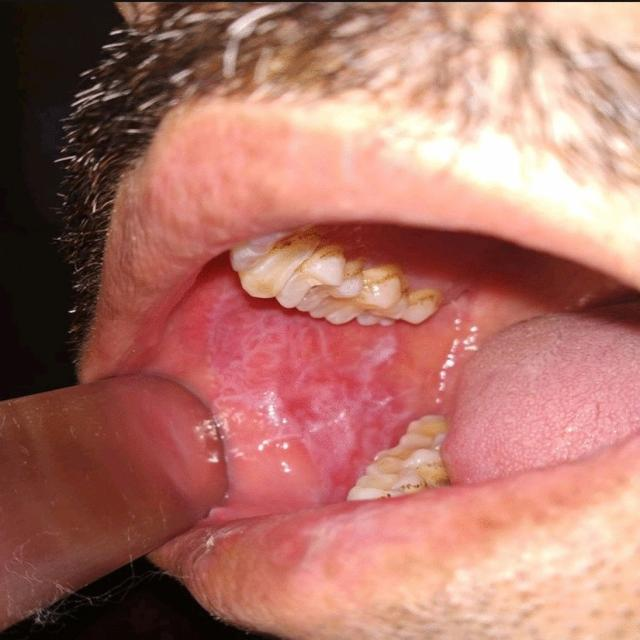leukoplakia-like-detection: (205, 296, 429, 501)
processing_area: (137, 229, 639, 521)
